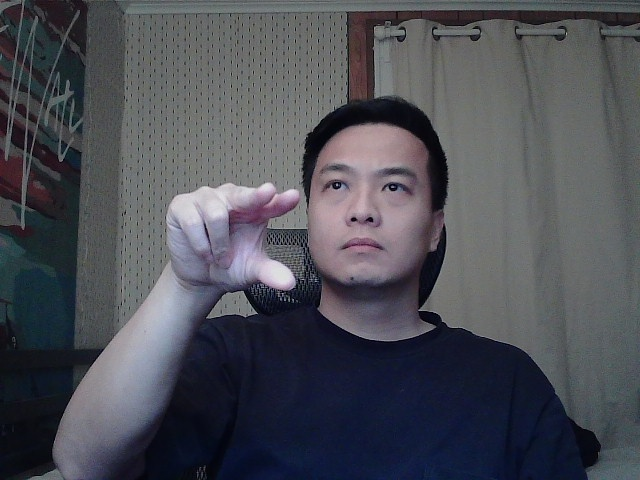No: (133, 149, 333, 317)
